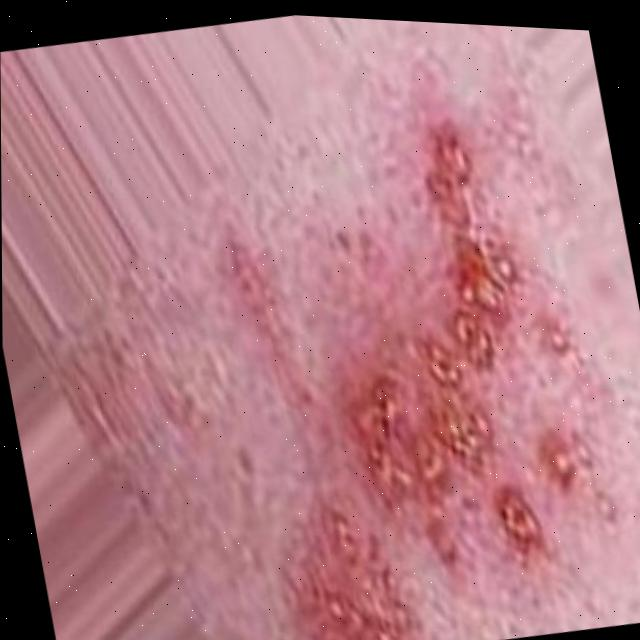Shingles: (321, 134, 574, 567), (308, 548, 406, 640)
